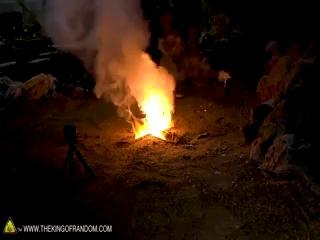Fire: (120, 60, 174, 138)
